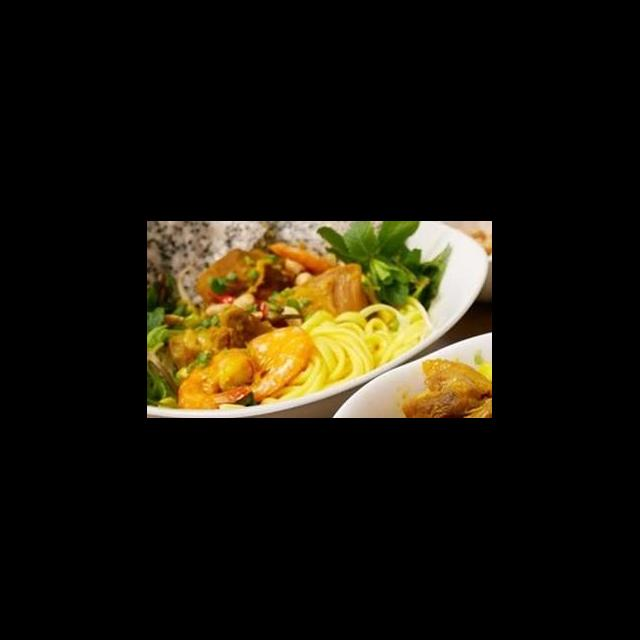banh da: (148, 222, 276, 308), (270, 222, 366, 268)
mi: (260, 294, 433, 408)
tom: (242, 324, 316, 404), (175, 344, 258, 414)
